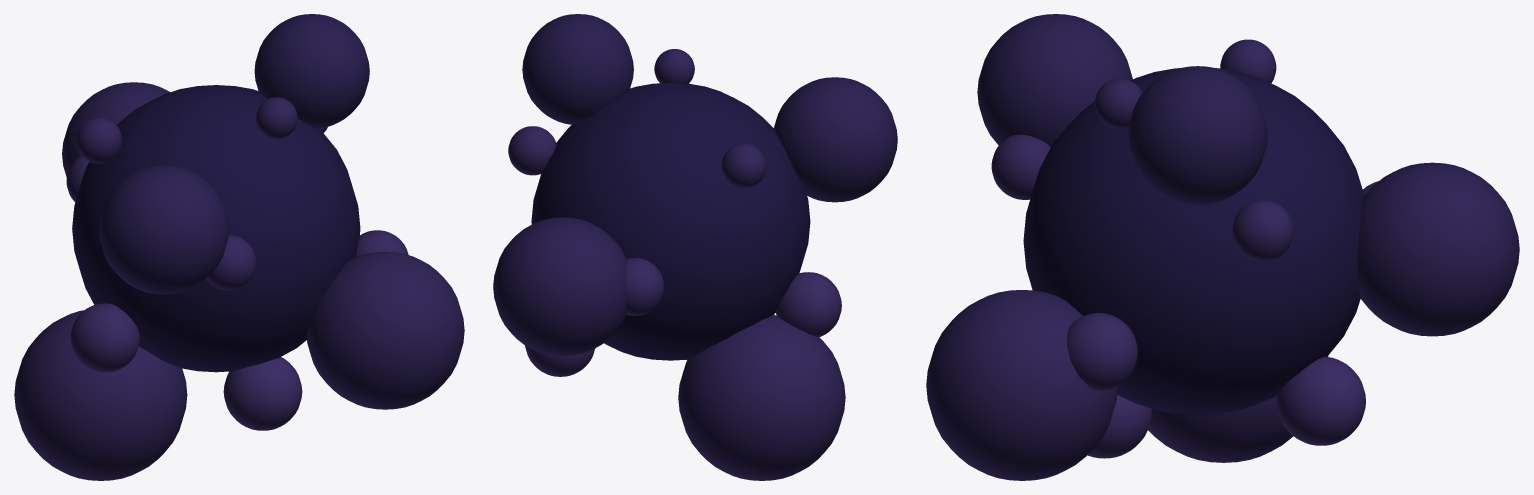
The model's file is deco-bubbles.glb.
The picture shows the model from 3 angles, left to right: view 1: azimuth 30°, elevation 25°; view 2: azimuth 150°, elevation 25°; view 3: azimuth 270°, elevation 25°; orthographic projection. The views are drawn at different scales.
Size of the model in its own units: 2.43 by 2.78 by 2.99.
